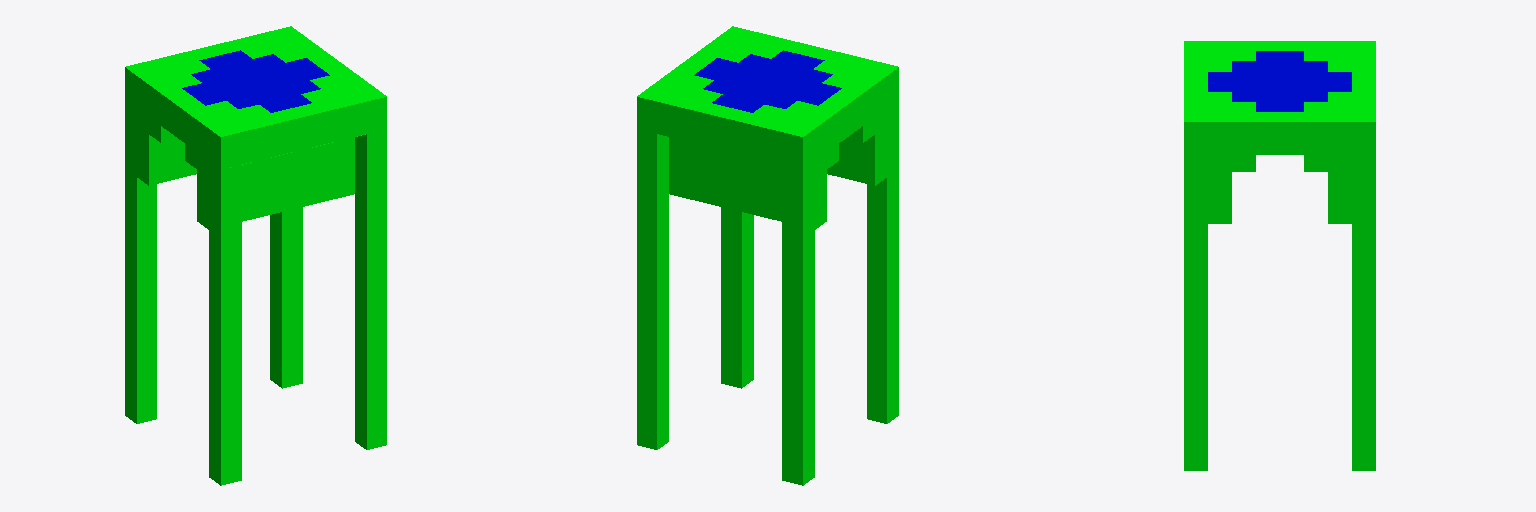
The model's file is Arch.obj.
3 views of the same model, side by side, from view 1: azimuth 30°, elevation 25°; view 2: azimuth 150°, elevation 25°; view 3: azimuth 270°, elevation 25° (orthographic).
Parts seen in each view (by area): view 1: Arch; view 2: Arch; view 3: Arch.
Part boxes in pixels (x1,y1,x2,y2): Arch: (125, 26, 386, 485); Arch: (637, 26, 898, 485); Arch: (1184, 41, 1375, 470).
Size of the model in its own units: 1 by 2 by 1.